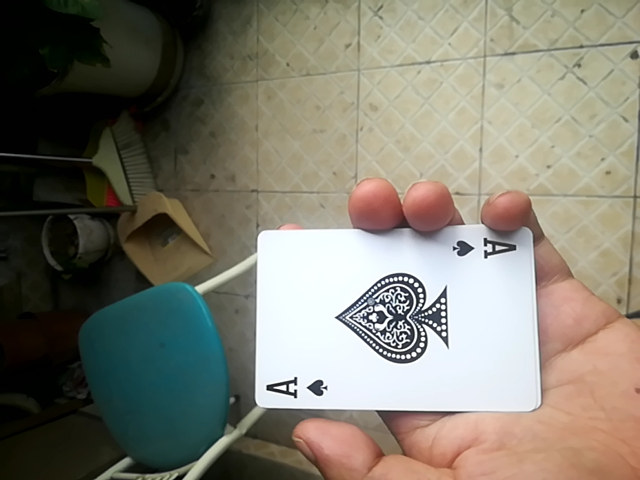ht a: (247, 223, 541, 412)
